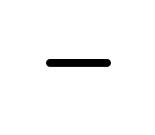minus: (47, 57, 110, 69)
